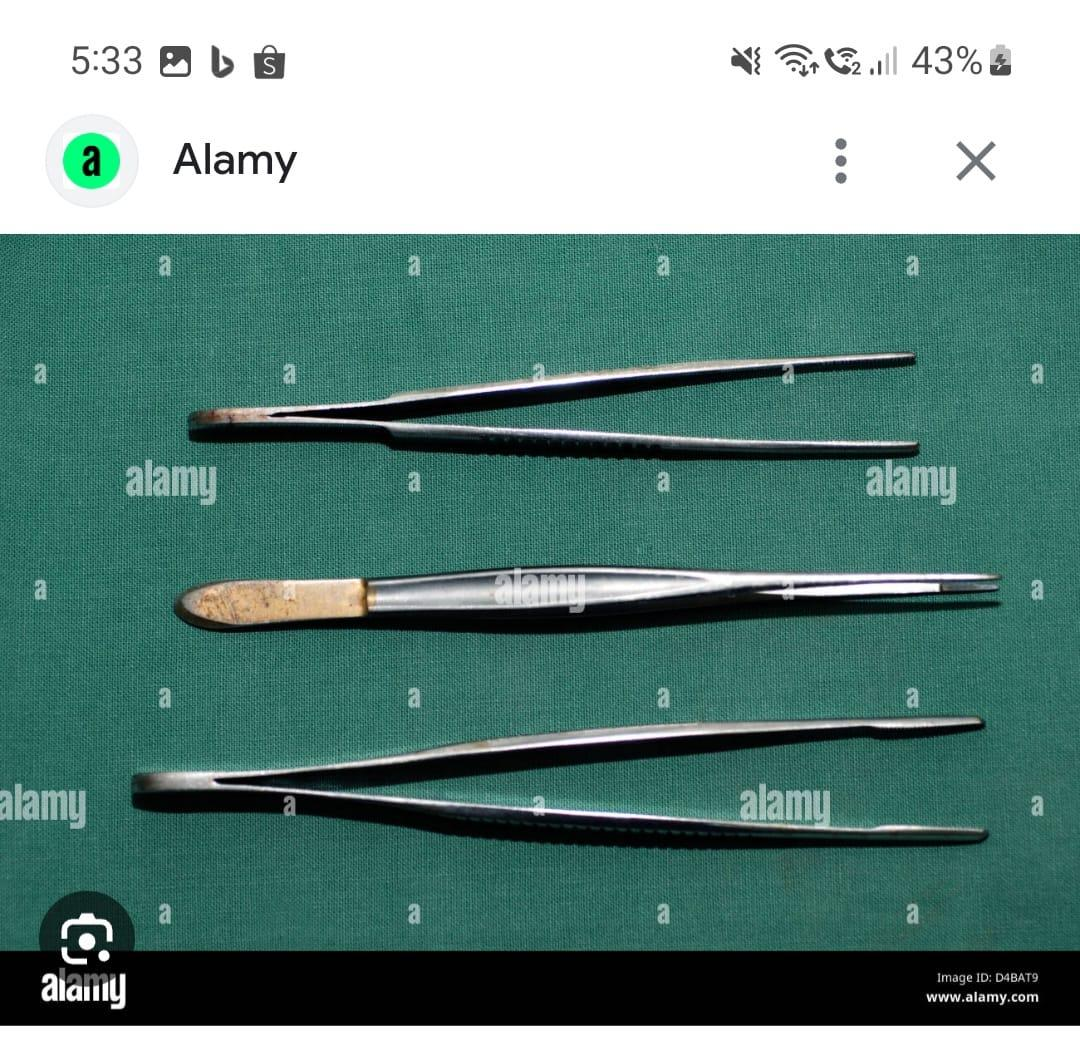Dissecting Forceps Plain: (92, 685, 993, 863), (177, 335, 935, 493), (153, 527, 1008, 650)
